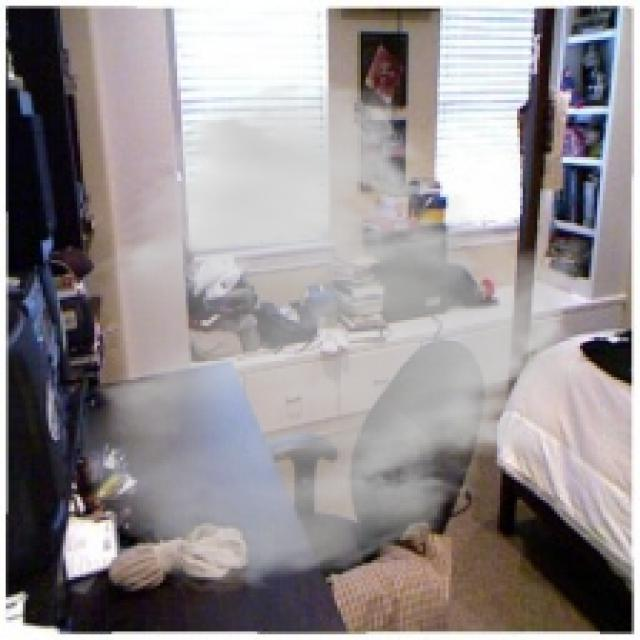smoke: (71, 77, 600, 597)
